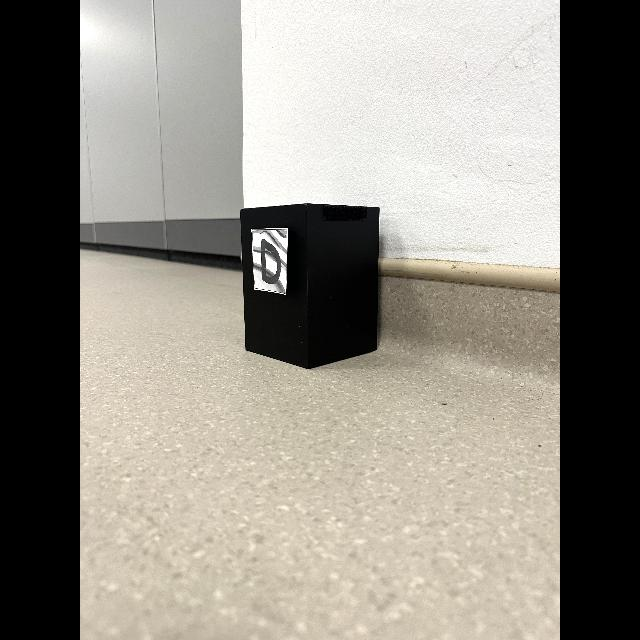D: (259, 239, 281, 284)
